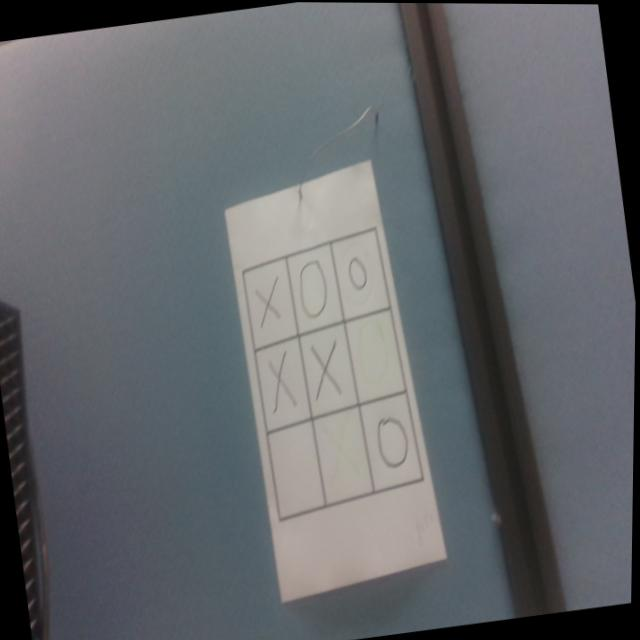null: (268, 419, 328, 520)
o: (296, 254, 336, 324), (355, 316, 395, 385), (375, 412, 414, 468), (346, 253, 371, 291)
table: (236, 223, 431, 530)
x: (322, 418, 363, 480), (310, 340, 346, 400), (267, 354, 301, 414), (251, 275, 287, 327)
